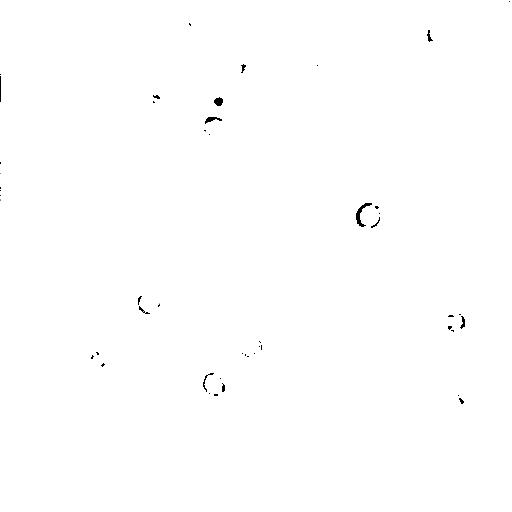micro-algae: (316, 111, 399, 195), (38, 407, 105, 472), (472, 286, 511, 341), (224, 49, 260, 87), (199, 81, 235, 115), (457, 369, 487, 406), (88, 356, 120, 388), (403, 19, 430, 50), (134, 287, 161, 316), (439, 308, 466, 337), (355, 201, 382, 229), (425, 19, 455, 44), (188, 8, 213, 36), (201, 370, 227, 395), (315, 47, 337, 76), (237, 335, 263, 359), (1, 74, 21, 105), (157, 0, 199, 14), (200, 117, 228, 137), (221, 0, 259, 12), (8, 0, 36, 14), (486, 0, 511, 13)
